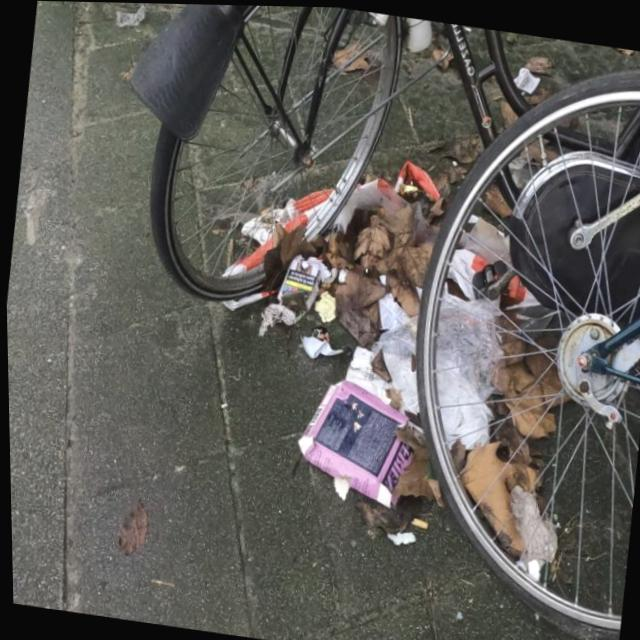Cardboard: (287, 370, 428, 512)
Paper: (359, 289, 507, 455), (496, 480, 563, 579), (273, 248, 325, 312), (254, 300, 296, 341)
Plastic: (295, 321, 353, 364)
